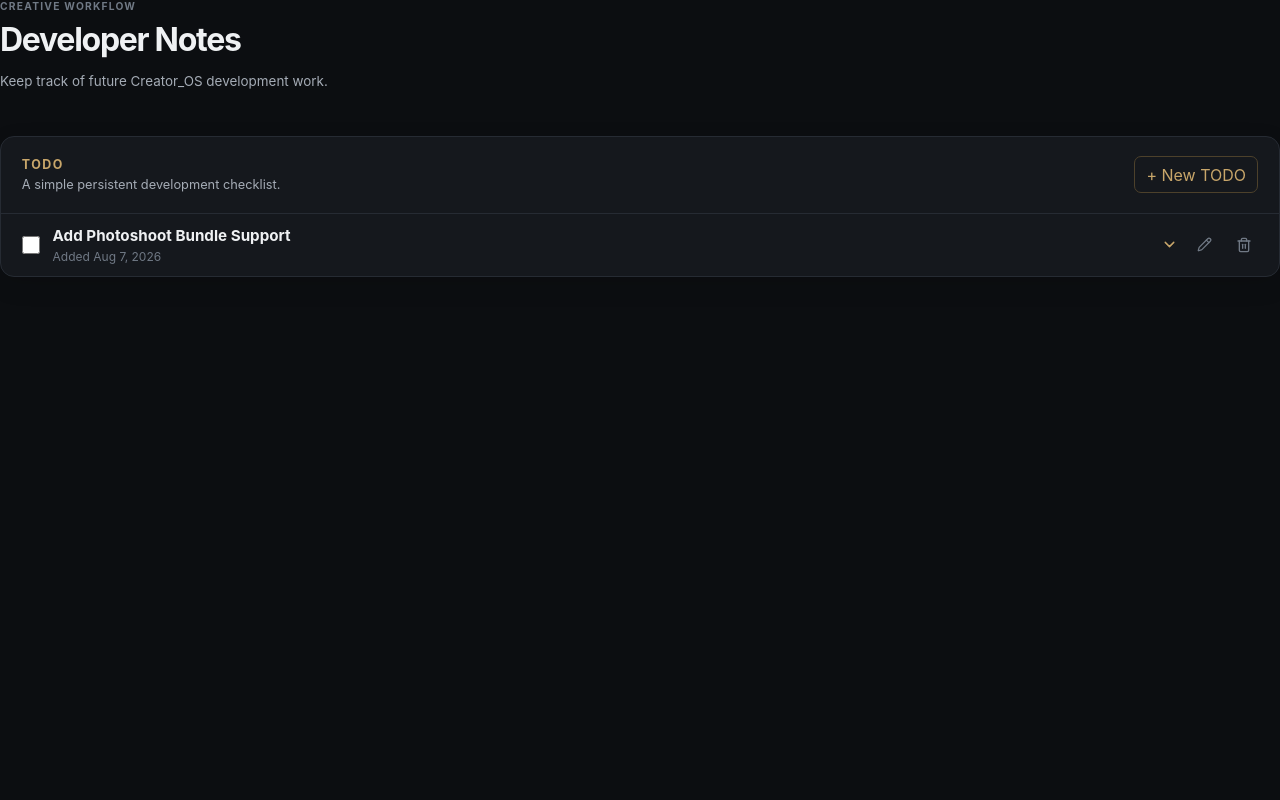
DeveloperNotesPage › keeps the TODO visible and surfaces an error when deletion fails
This screenshot has width=1280, height=800.
Click the button named "Delete Add Photoshoot Bundle Support" at (1244,245), box [1231,231,1258,259]
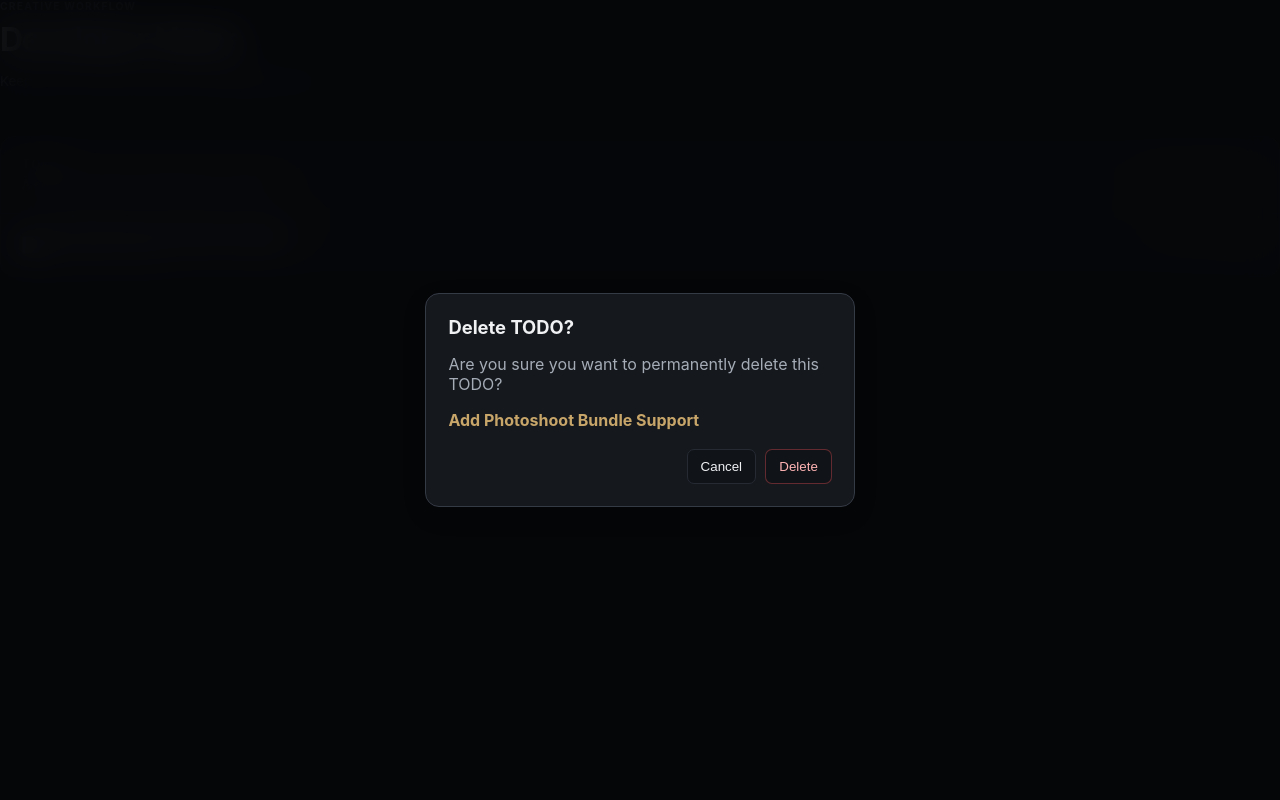
Click the button "Delete" at (799,467), box [766,449,832,484]
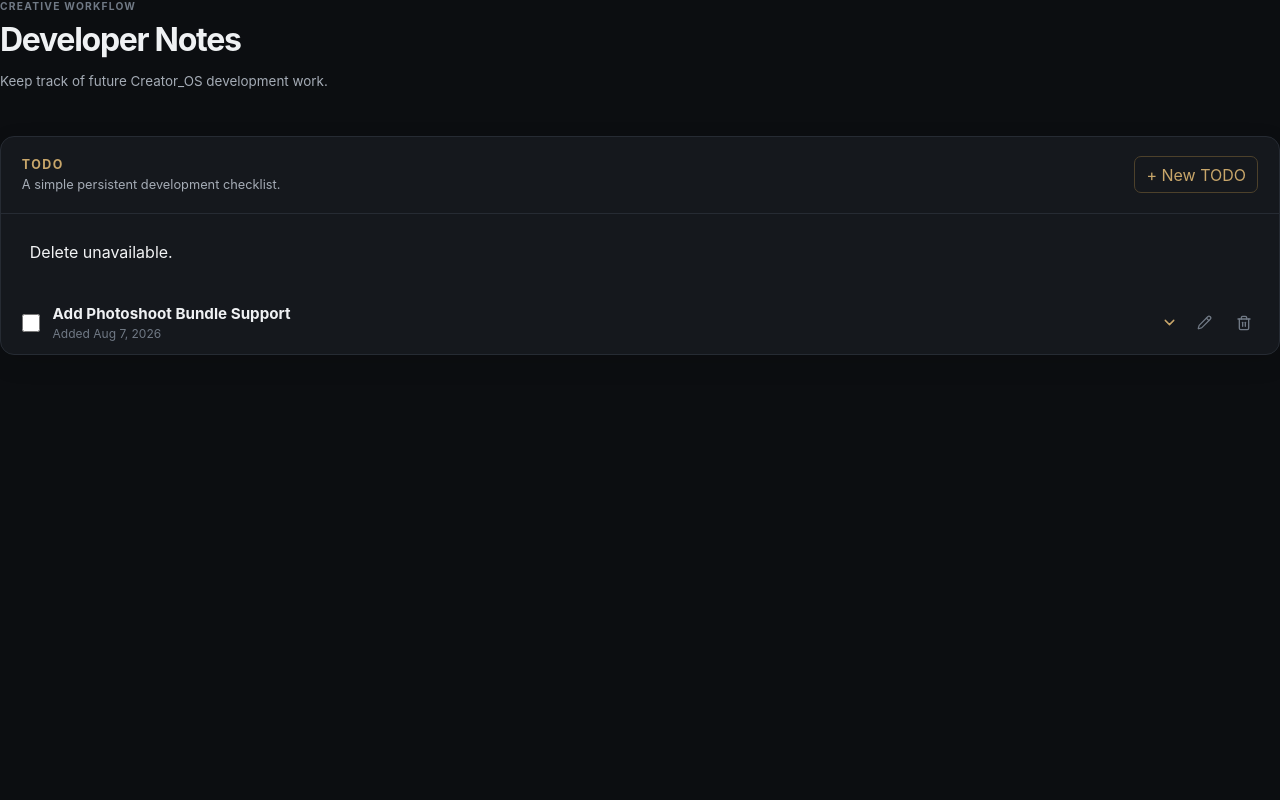
Expected: the text "Add Photoshoot Bundle Support" is shown, [53,304,291,323]
Now the message reads "Delete unavailable.", box [30,242,173,262]
